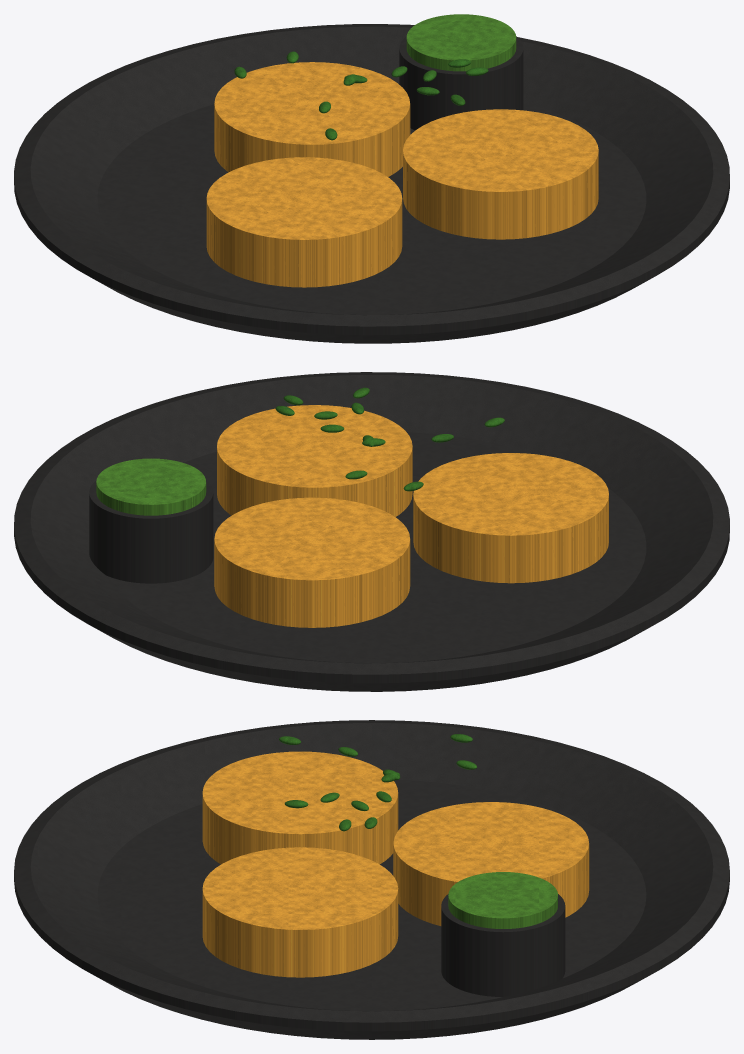
Rendered from patacones-aguacate.glb.
The picture shows the model from 3 angles, top to bottom: view 1: azimuth 30°, elevation 25°; view 2: azimuth 150°, elevation 25°; view 3: azimuth 270°, elevation 25°; orthographic projection.
Visible parts, largest first — view 1: part0, part1, part2, part3, part4; view 2: part0, part1, part2, part3, part4; view 3: part0, part1, part2, part3, part4.
Part boxes in pixels (bbox=[...]): part0: bbox=[14, 24, 729, 343]; part1: bbox=[206, 62, 598, 287]; part2: bbox=[399, 36, 523, 130]; part3: bbox=[406, 14, 516, 71]; part4: bbox=[234, 51, 488, 140]; part0: bbox=[14, 372, 729, 691]; part1: bbox=[214, 405, 608, 627]; part2: bbox=[89, 480, 213, 583]; part3: bbox=[96, 458, 206, 515]; part4: bbox=[275, 387, 504, 491]; part0: bbox=[14, 720, 729, 1039]; part1: bbox=[202, 751, 589, 977]; part2: bbox=[441, 894, 565, 996]; part3: bbox=[448, 872, 557, 928]; part4: bbox=[279, 734, 476, 831].
Bounding box in the file's own units: 0.3 × 0.0665 × 0.3.
Materials: 5 (5 with a texture image).
